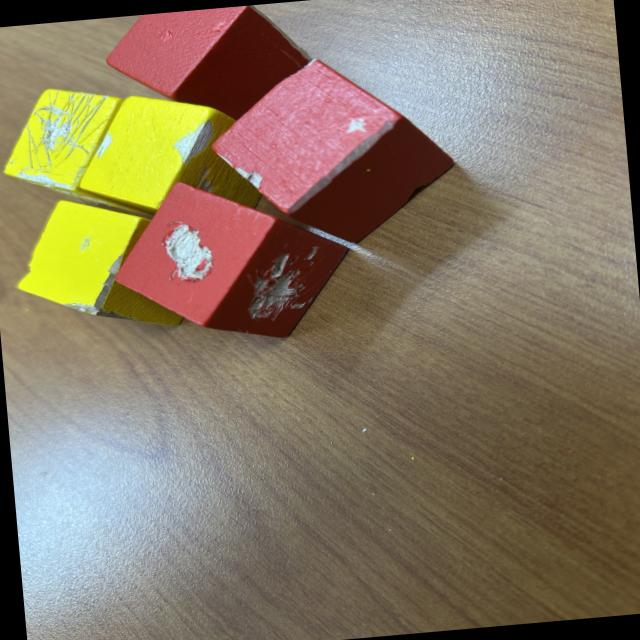broken: (202, 48, 460, 256), (103, 168, 354, 350), (73, 83, 272, 239), (104, 0, 316, 134), (10, 188, 198, 338), (0, 79, 173, 221)
